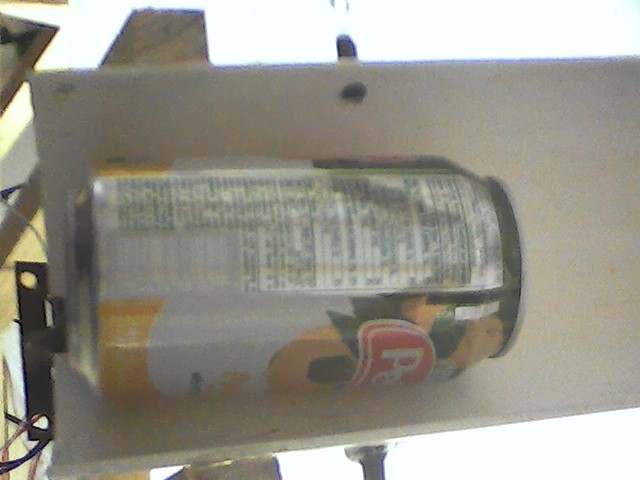lata: (56, 144, 533, 408)
